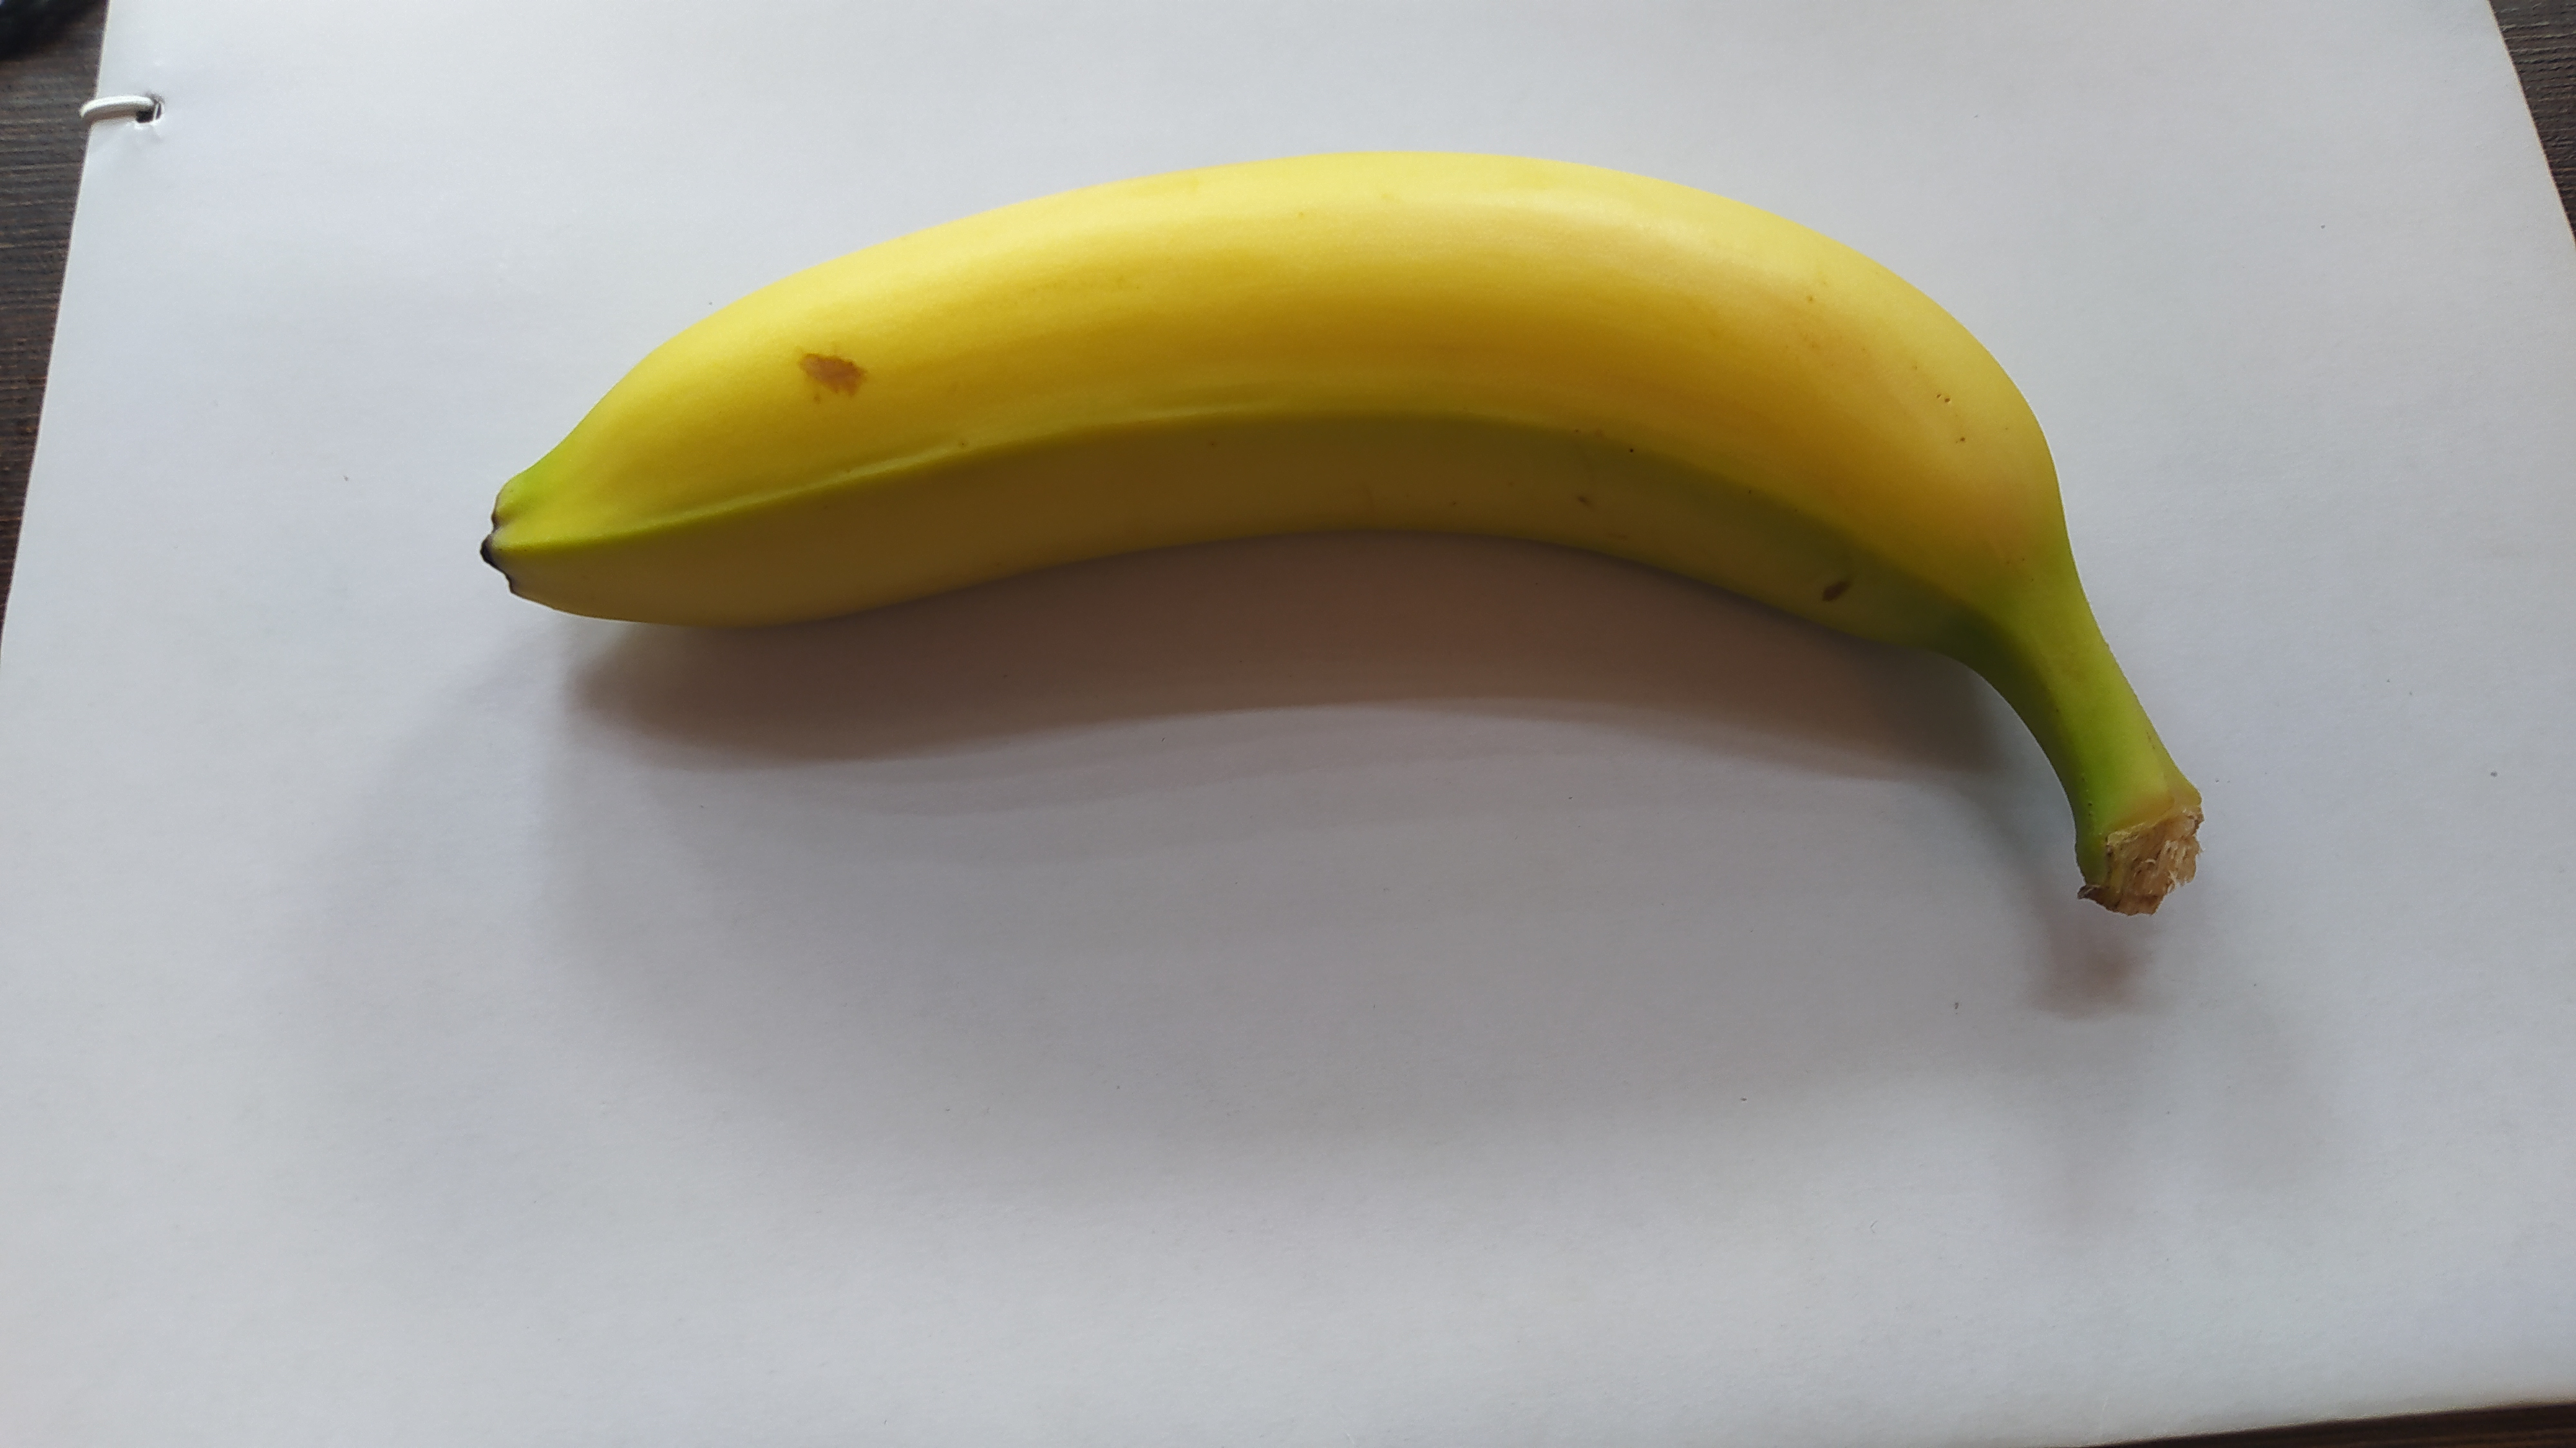banana: (478, 145, 2203, 919)
